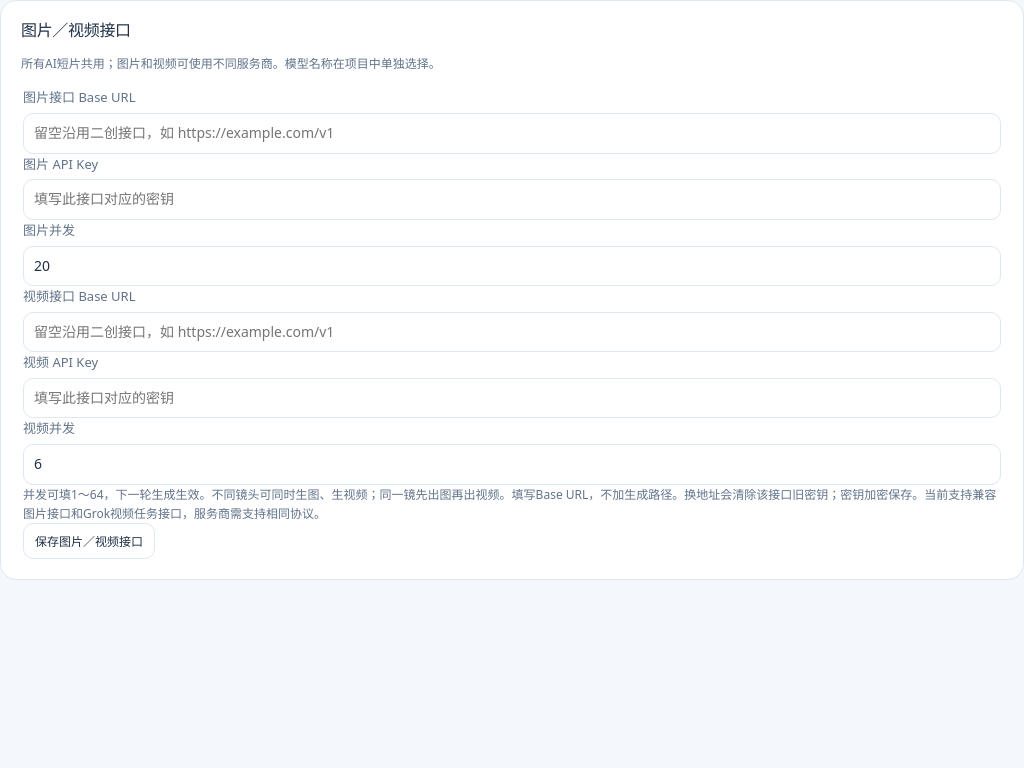
saves separate URLs, keys and concurrency without persisting keys in browser storage
Type "https://image.example/v1" into the field named "图片接口URL" at (512, 133), box [23,113,1001,154]
Type "https://video.example/v1" into the field named "视频接口URL" at (512, 332), box [23,312,1001,352]
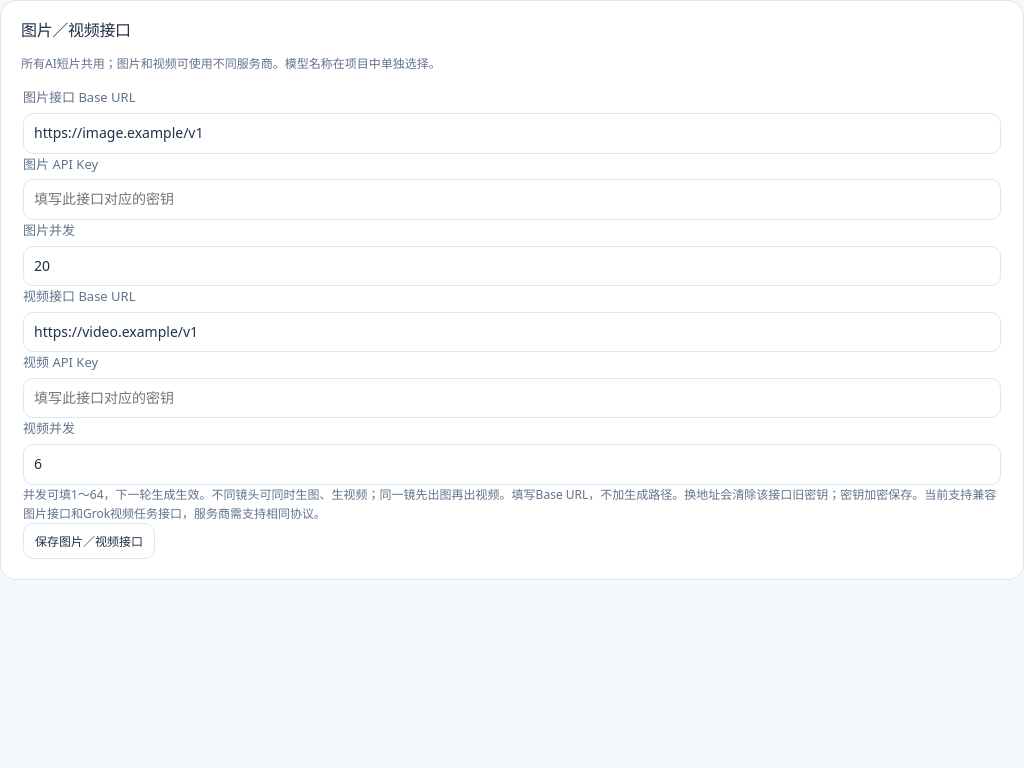
Type "image-key" into the password field named "图片API Key" at (512, 200), box [23,179,1001,220]
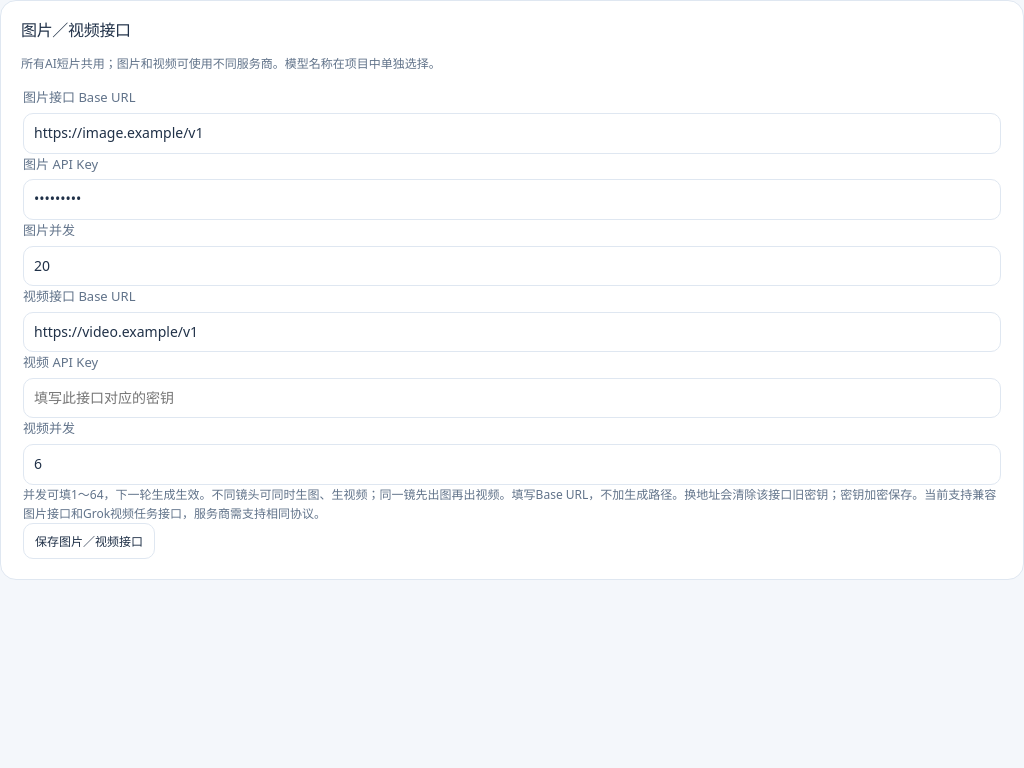
Type "video-key" into the password field named "视频API Key" at (512, 398), box [23,378,1001,418]
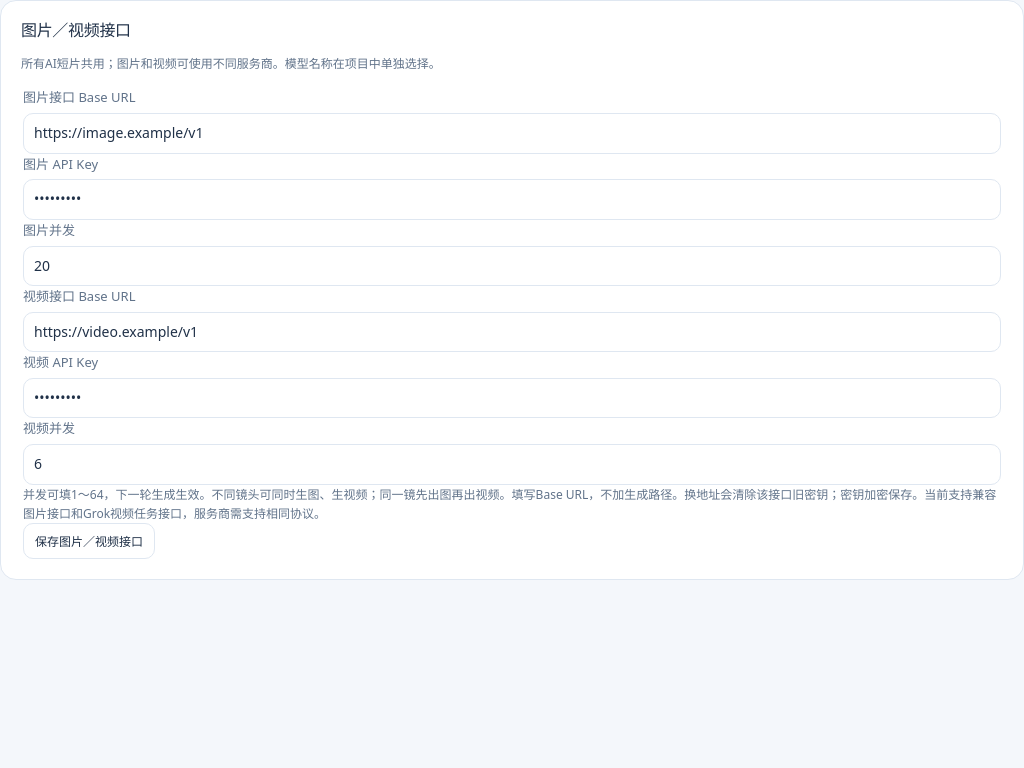
Replace the text in the number field labelled "图片并发" with "8" at (512, 266), box [23,246,1001,286]
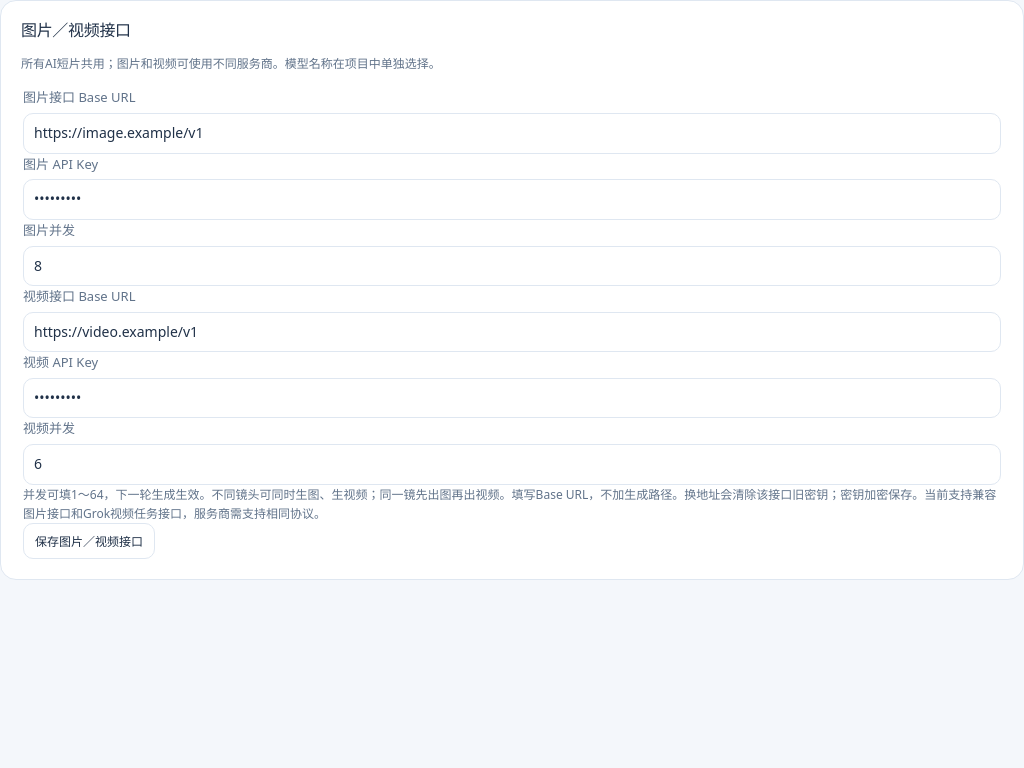
Replace the text in the number field labelled "视频并发" with "4" at (512, 464), box [23,444,1001,484]
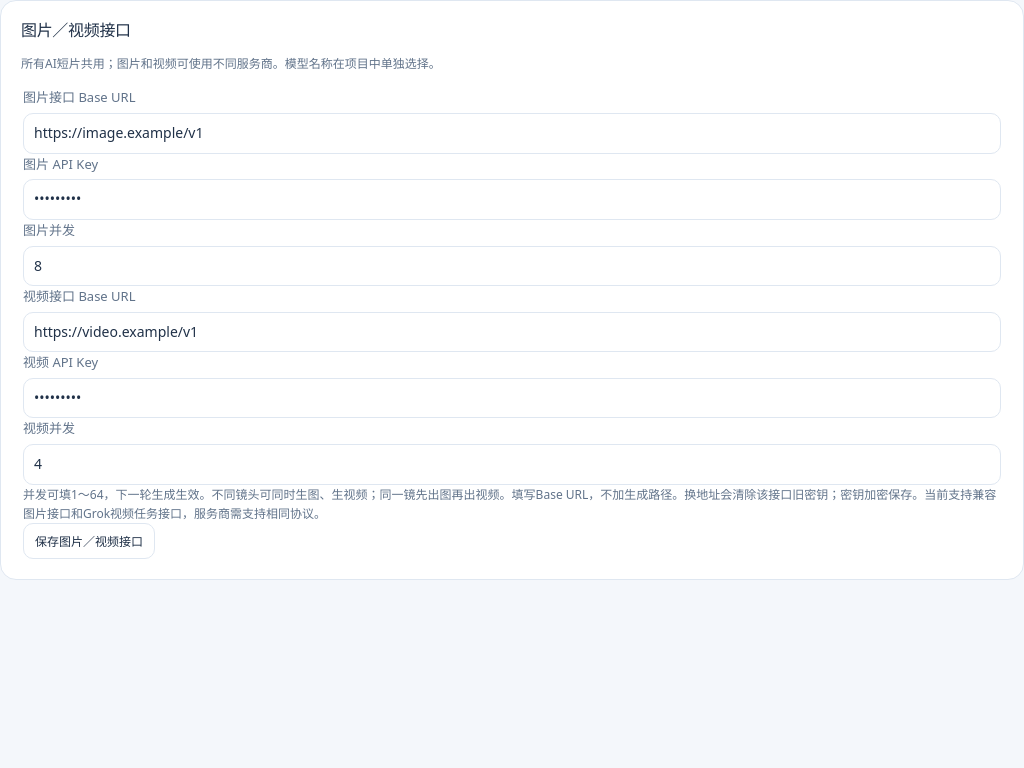
Click the button "保存图片／视频接口" at (89, 541), box [23,523,155,559]
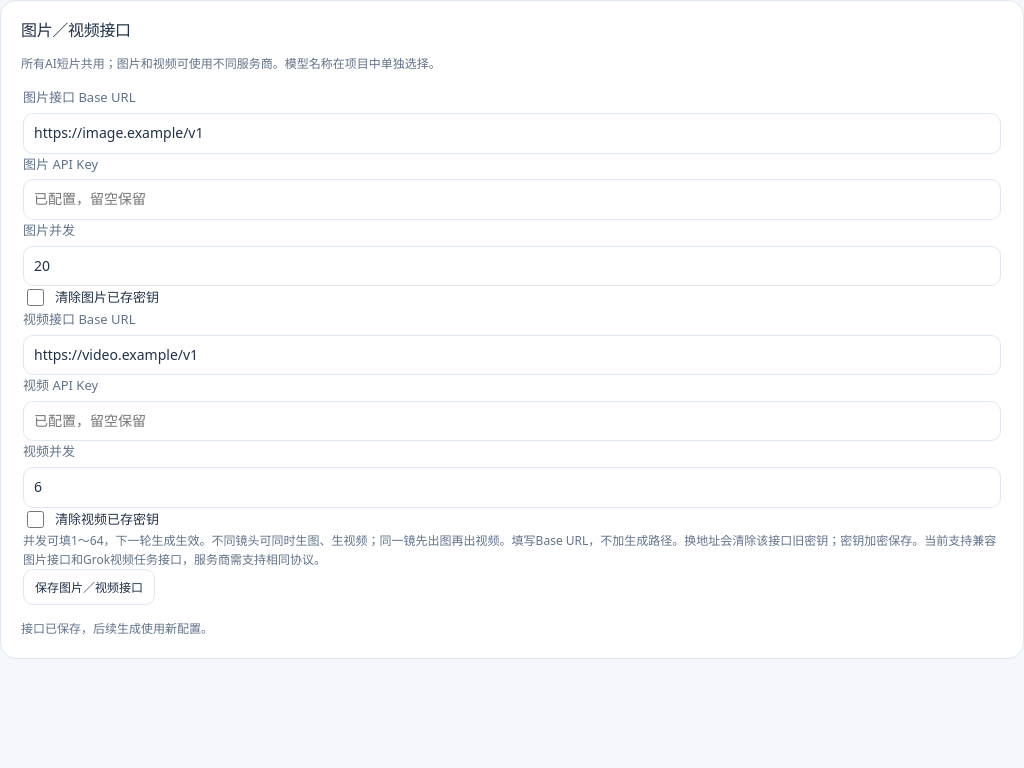
Expected: the text "接口已保存，后续生成使用新配置。" is shown, [21,620,213,637]
Expected: the password field named "图片API Key" is empty, [23,179,1001,220]
Expected: the password field named "视频API Key" is empty, [23,401,1001,441]
